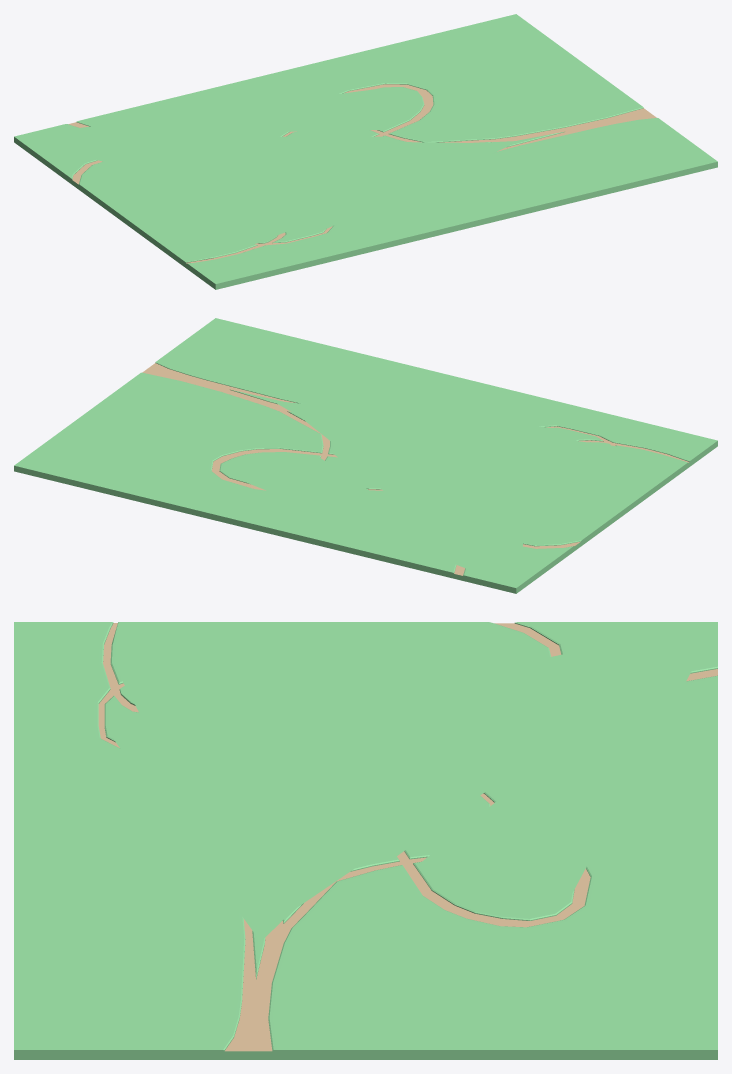
The model's file is newMap.fbx.
The picture shows the model from 3 angles, top to bottom: view 1: azimuth 30°, elevation 25°; view 2: azimuth 150°, elevation 25°; view 3: azimuth 270°, elevation 25°; orthographic projection. The views are drawn at different scales.
Visible parts, largest first — view 1: Surroundings, Path; view 2: Surroundings, Path; view 3: Surroundings, Path.
Boxes of the visible parts, x1=… form: Surroundings: x1=14, y1=14, x2=717, y2=289; Path: x1=68, y1=84, x2=656, y2=263; Surroundings: x1=14, y1=318, x2=717, y2=593; Path: x1=142, y1=363, x2=688, y2=575; Surroundings: x1=14, y1=622, x2=717, y2=1059; Path: x1=98, y1=623, x2=717, y2=1051.
Size of the model in its own units: 2862 by 31.47 by 1990.
